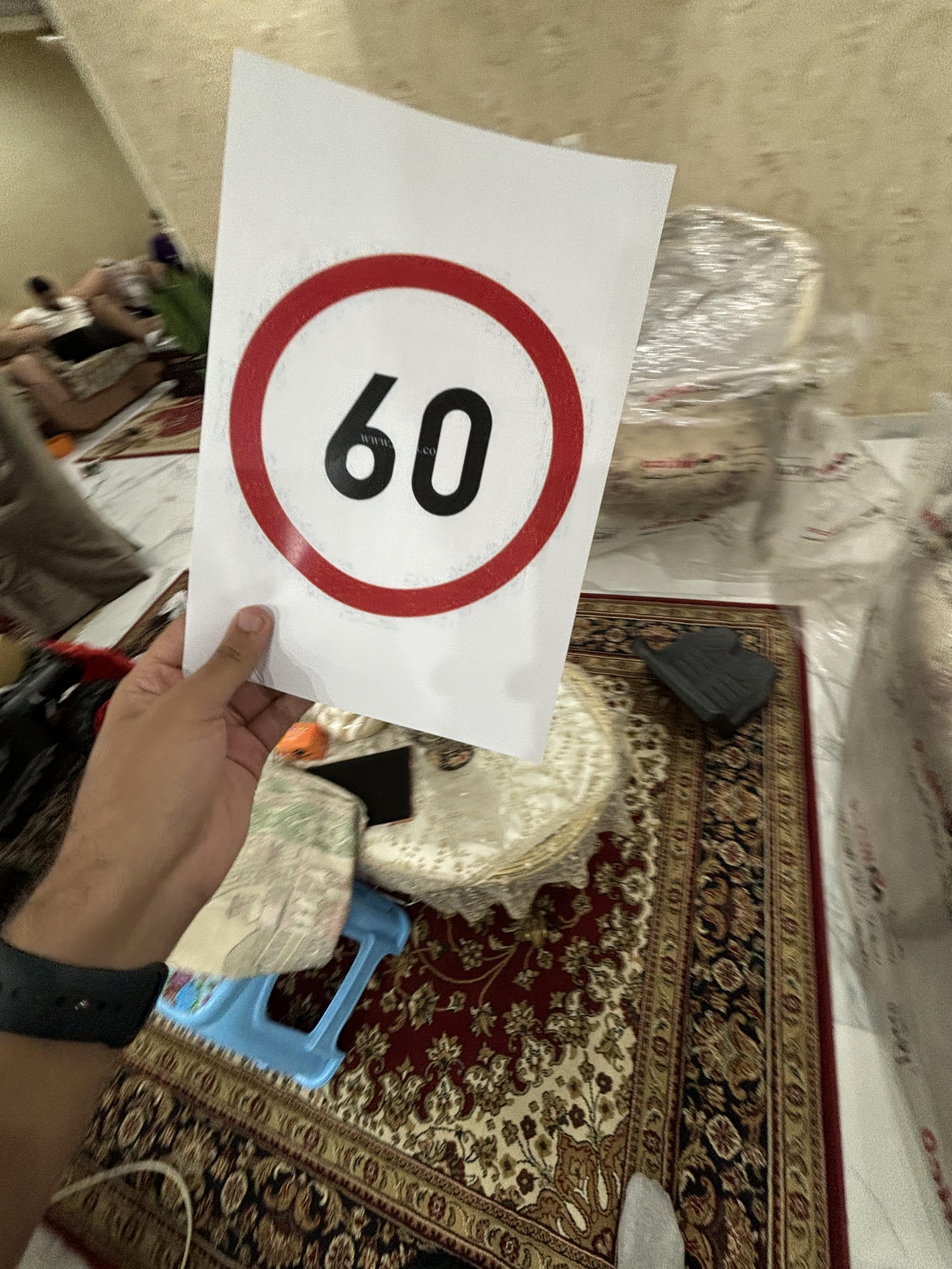60-Speed: (230, 240, 591, 616)
